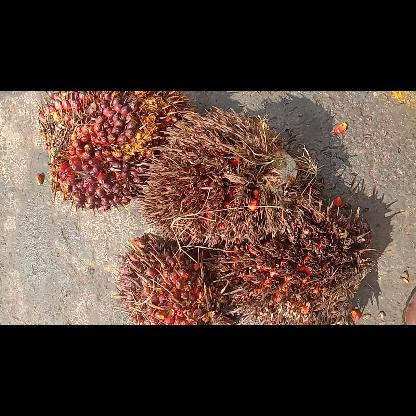TBS masak: (36, 91, 198, 215), (112, 232, 226, 324)
Terlalu masak: (135, 106, 315, 246), (204, 200, 374, 324)
